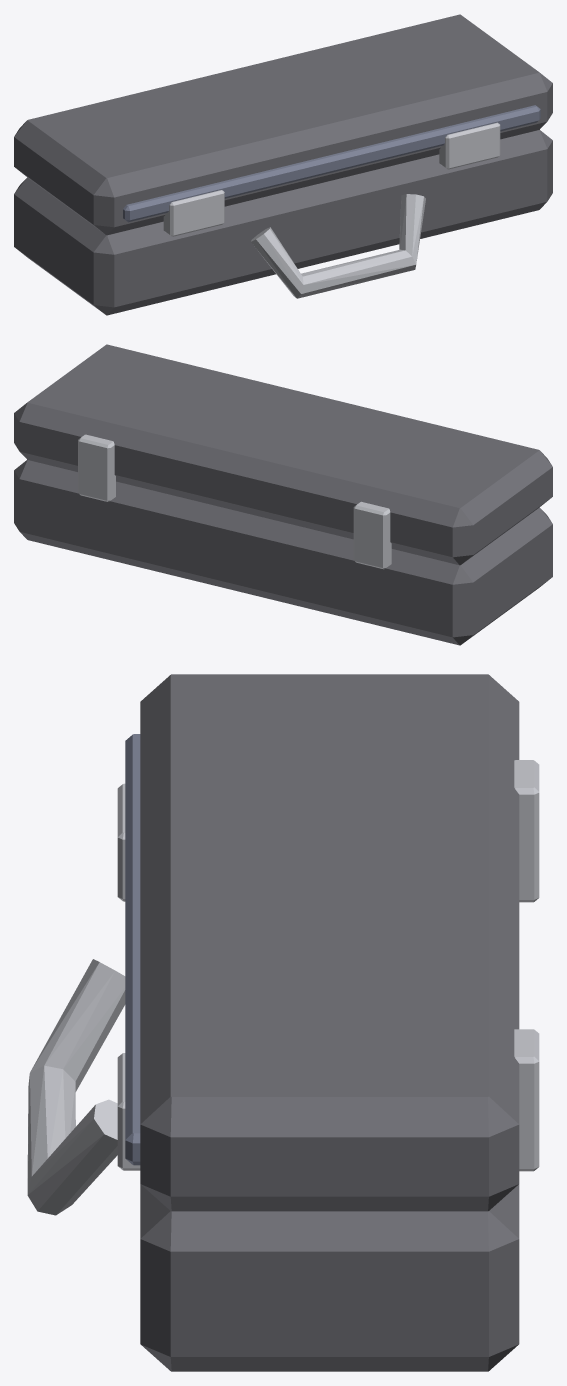
Rendered from orchestra-and-band-instruments-flute-case-69d53840__39314.glb.
The picture shows the model from 3 angles, top to bottom: view 1: azimuth 30°, elevation 25°; view 2: azimuth 150°, elevation 25°; view 3: azimuth 270°, elevation 25°; orthographic projection. The views are drawn at different scales.
Visible parts, largest first — view 1: lid/dark, flute-case, lid/fabric; view 2: lid/dark, flute-case; view 3: lid/dark, flute-case, lid/fabric.
Boxes of the visible parts, left/top/right/bottom form: lid/dark: left=14, top=14, right=552, bottom=235; flute-case: left=14, top=122, right=552, bottom=315; lid/fabric: left=123, top=105, right=540, bottom=222; lid/dark: left=14, top=344, right=552, bottom=565; flute-case: left=14, top=434, right=552, bottom=645; lid/dark: left=140, top=674, right=519, bottom=1211; flute-case: left=27, top=760, right=539, bottom=1371; lid/fabric: left=125, top=734, right=140, bottom=1165.
Bounding box in the file's own units: 0.42 × 0.12 × 0.2027.
